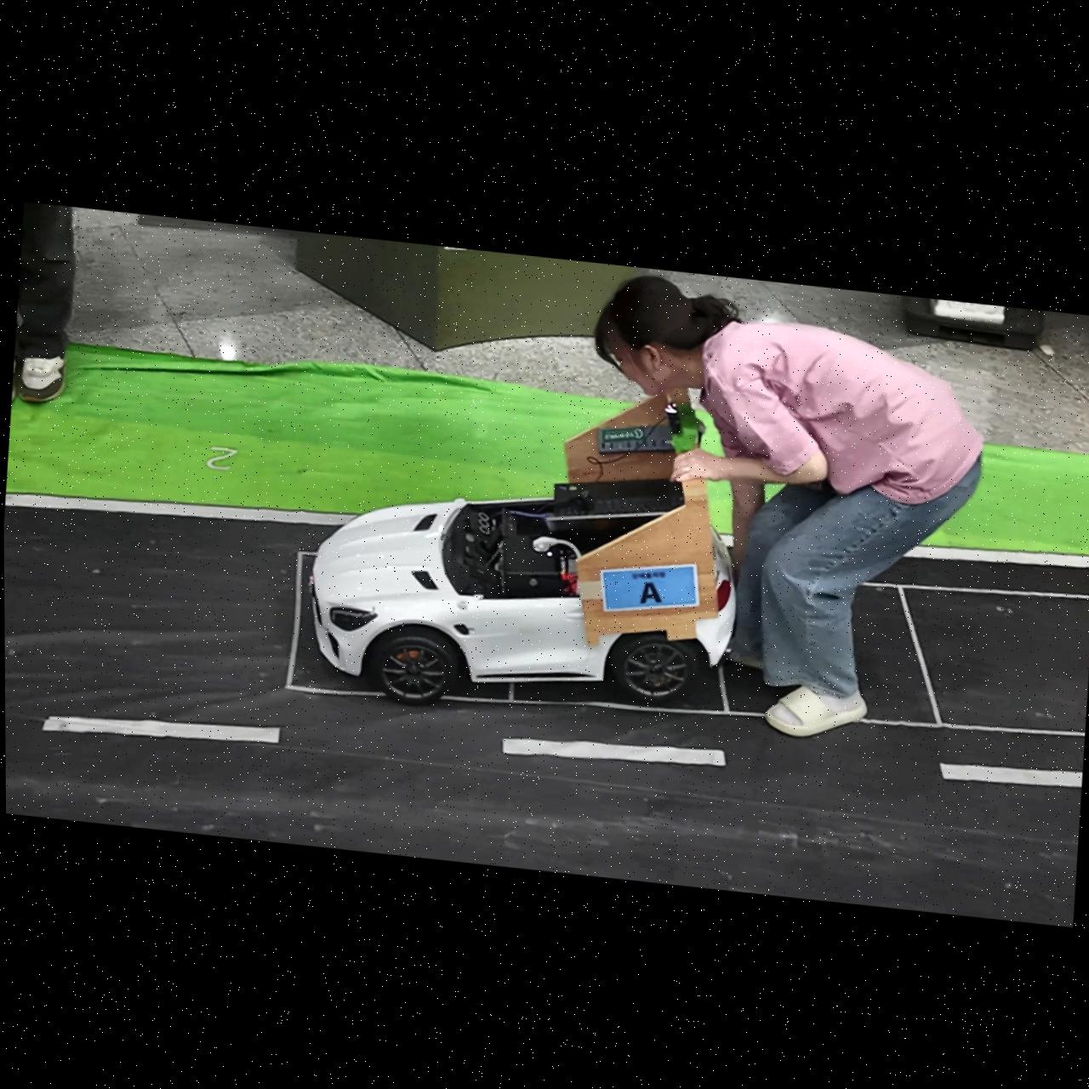broken_line: (42, 716, 280, 743), (502, 738, 726, 766), (940, 763, 1082, 787)
